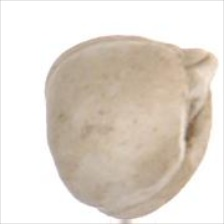L3: (176, 43, 219, 124)
L4: (44, 34, 219, 220)
